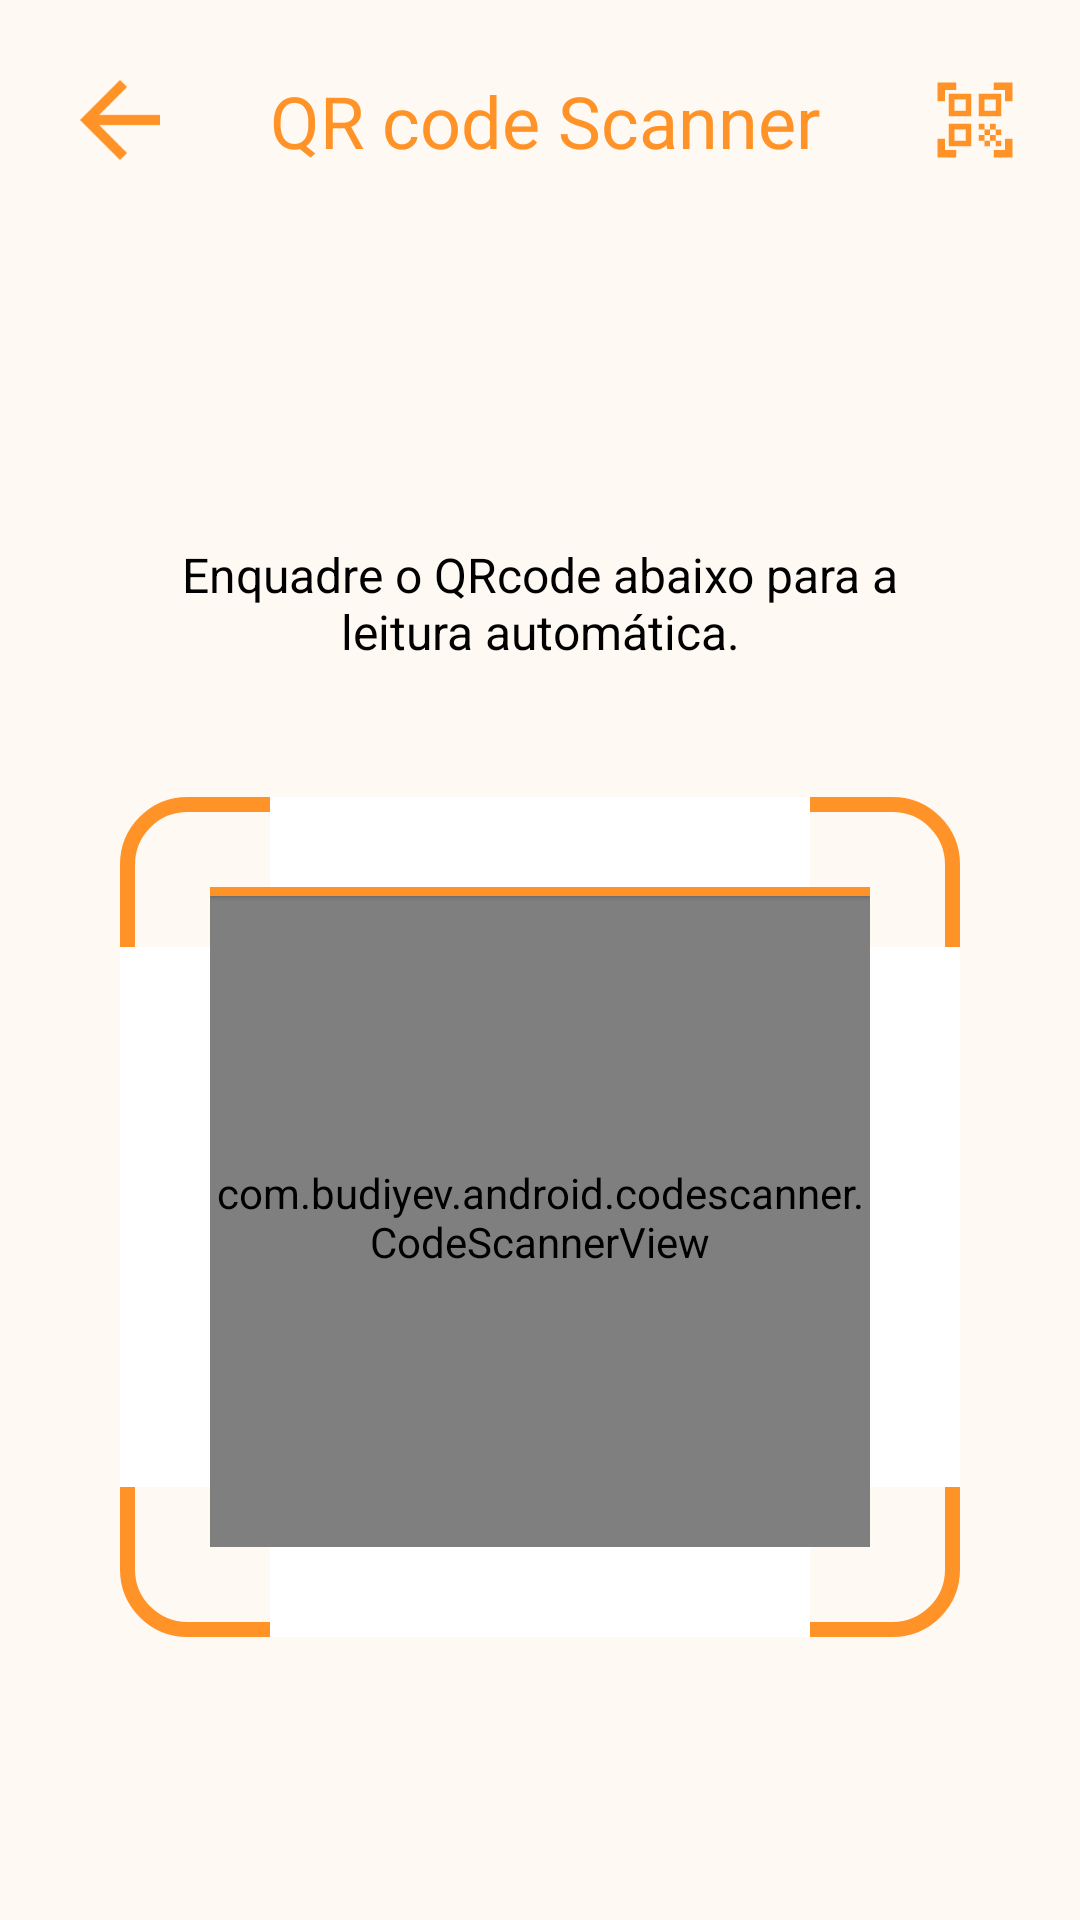

Icon click points for this 1080 × 1920 phone screenshot, format (x,y):
arrow back: (120,120)
